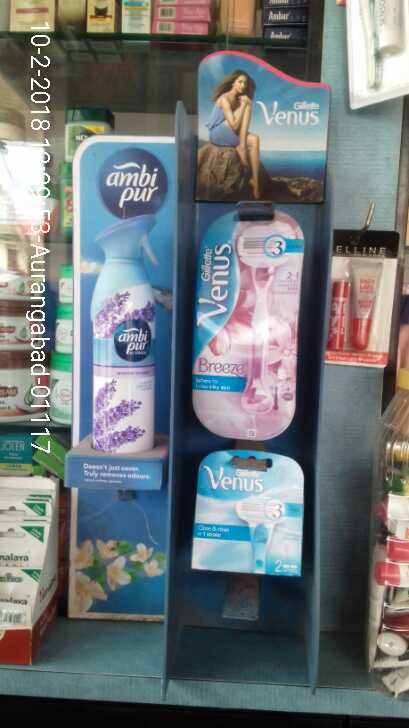beauty: (185, 196, 299, 436), (185, 447, 307, 577)
home: (85, 200, 155, 451)
